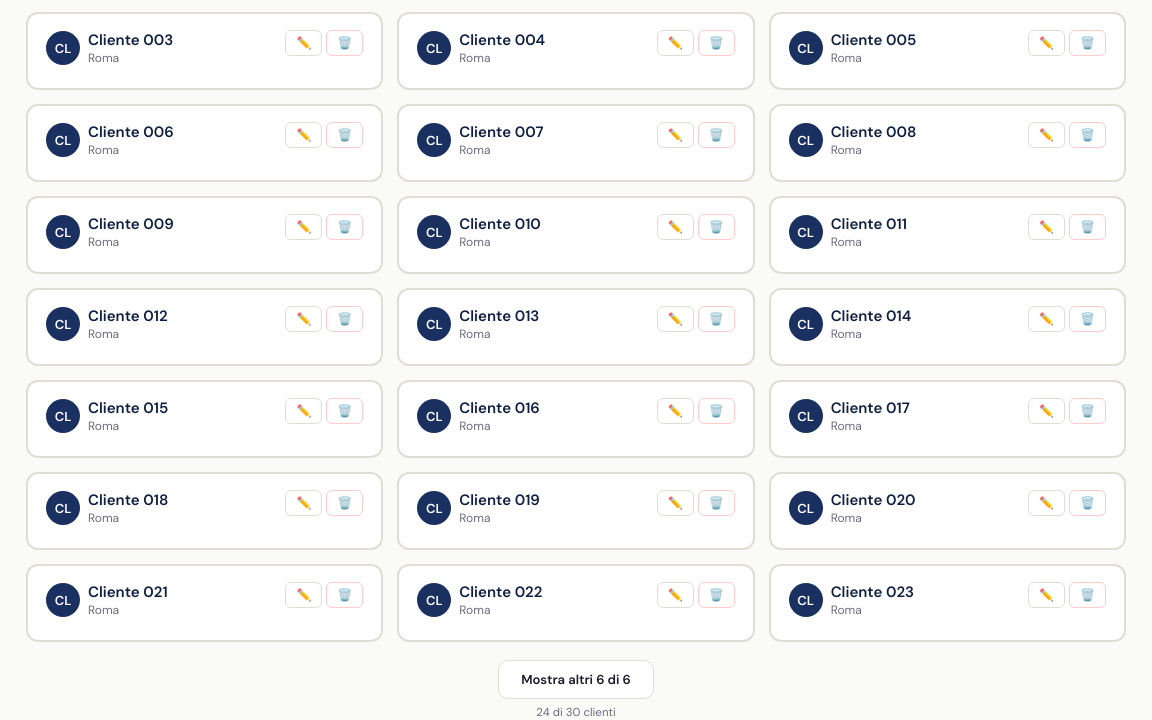
Test: ClientiView — finestra di paginazione (ST-9) › sull'ultima pagina il bottone sparisce e si vedono tutti
(page scrolled)
What coordinates should you click on to do the following:
click the button "Mostra altri 6 di 6"
I would click on:
 (576, 680)
Its box is 498,660 -> 654,699.
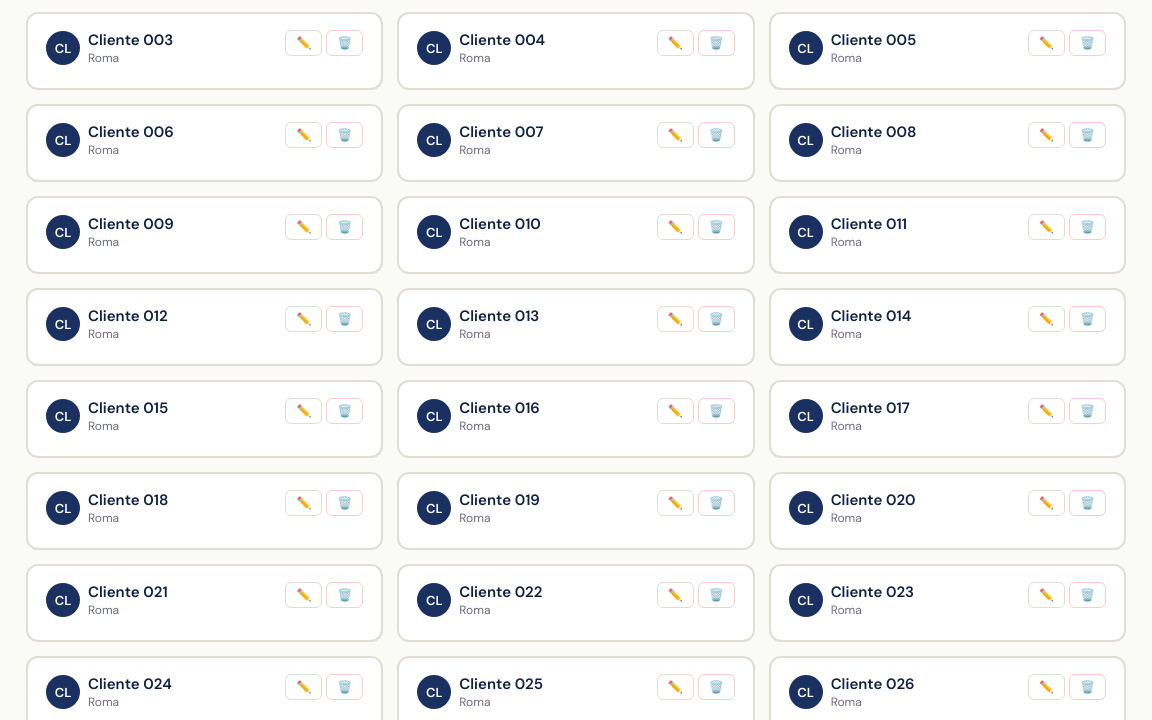
Check: the button "Mostra altri" is gone
